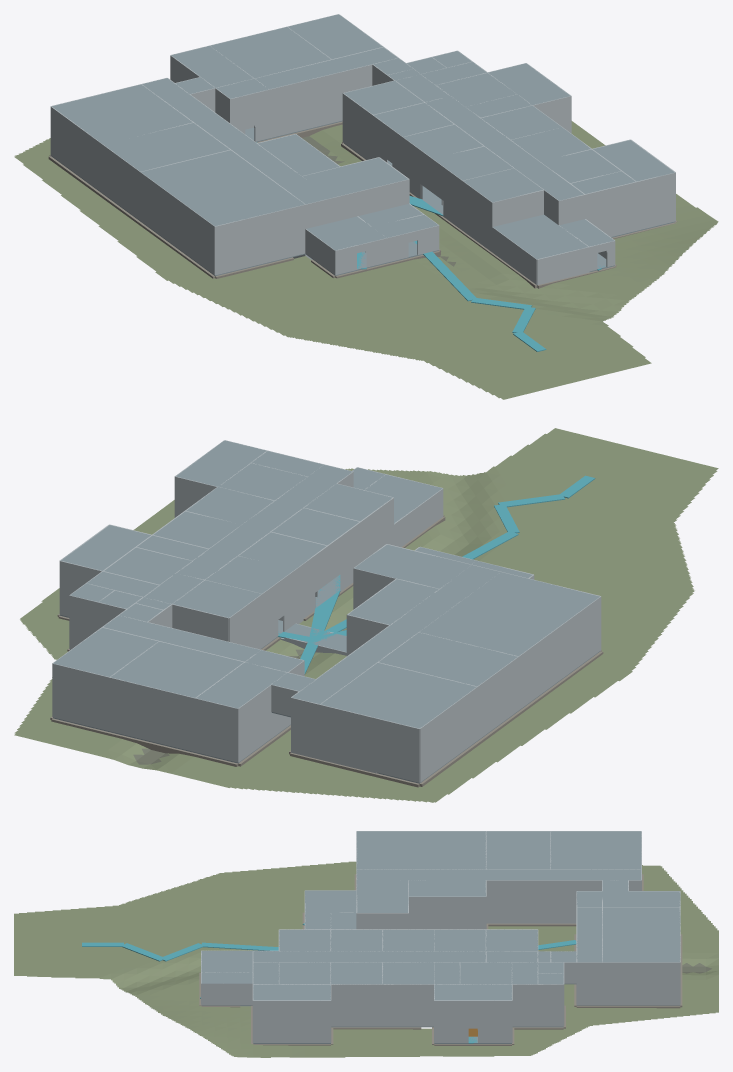
Rendered from open-circulation.glb.
3 views of the same model, one above another, from view 1: azimuth 30°, elevation 25°; view 2: azimuth 150°, elevation 25°; view 3: azimuth 270°, elevation 25° (orthographic). The views are drawn at different scales.
Visible parts, largest first — view 1: Saved editor macroterrain COLLEGE, Ceiling cap lecture, Ceiling cap project, Wall lecture S, Ceiling cap upper-teaching, Wall lecture W, Ceiling cap upper-stacks, Ceiling cap upper-res-hall, Ceiling cap upper-seminar, Flat route shell Wall bridge-lobby S, Ceiling cap tutorial, Ceiling cap upper-reading (+51 smaller); view 2: Saved editor macroterrain COLLEGE, Ceiling cap lecture, Ceiling cap project, Ceiling cap upper-teaching, Wall lecture W, Ceiling cap upper-res-hall, Ceiling cap upper-stacks, Ceiling cap upper-seminar, Wall project N, Ceiling cap tutorial, Ceiling cap upper-reading, Wall upper-stacks N (+54 smaller); view 3: Saved editor macroterrain COLLEGE, Ceiling cap lecture, Ceiling cap project, Ceiling cap upper-teaching, Ceiling cap upper-res-hall, Ceiling cap upper-stacks, Ceiling cap upper-seminar, Flat route shell Wall upper-teaching E.001, Flat route shell Wall teaching-hall E, Ceiling cap upper-reading, Wall upper-reading E, Wall upper-north-stair E (+44 smaller).
Part boxes in pixels (box(x1,y1,x2,y2)): Saved editor macroterrain COLLEGE: box(14, 121, 718, 399); Ceiling cap lecture: box(141, 150, 304, 225); Ceiling cap project: box(51, 84, 192, 144); Wall lecture S: box(215, 204, 305, 275); Ceiling cap upper-teaching: box(142, 78, 330, 204); Wall lecture W: box(140, 172, 215, 275); Ceiling cap upper-stacks: box(210, 27, 330, 78); Ceiling cap upper-res-hall: box(425, 96, 583, 200); Ceiling cap upper-seminar: box(103, 123, 229, 171); Flat route shell Wall bridge-lobby S: box(269, 62, 379, 113); Ceiling cap tutorial: box(302, 157, 407, 197); Ceiling cap upper-reading: box(288, 14, 382, 59); Saved editor macroterrain COLLEGE: box(14, 428, 718, 802); Ceiling cap lecture: box(419, 572, 599, 656); Ceiling cap project: box(320, 663, 476, 728); Ceiling cap upper-teaching: box(292, 565, 500, 703); Wall lecture W: box(519, 596, 601, 709); Ceiling cap upper-res-hall: box(177, 465, 352, 579); Ceiling cap upper-stacks: box(111, 641, 243, 697); Ceiling cap upper-seminar: box(379, 632, 517, 686); Wall project N: box(319, 704, 419, 755); Ceiling cap tutorial: box(354, 544, 471, 588); Ceiling cap upper-reading: box(53, 627, 158, 676); Wall upper-stacks N: box(109, 677, 194, 725); Saved editor macroterrain COLLEGE: box(14, 861, 718, 1057); Ceiling cap lecture: box(356, 831, 485, 869); Ceiling cap project: box(551, 831, 641, 869); Ceiling cap upper-teaching: box(356, 869, 641, 880); Ceiling cap upper-res-hall: box(253, 951, 485, 962); Ceiling cap upper-stacks: box(602, 908, 680, 940); Ceiling cap upper-seminar: box(486, 831, 550, 869); Flat route shell Wall upper-teaching E.001: box(486, 880, 601, 901); Flat route shell Wall teaching-hall E: box(486, 901, 576, 922); Ceiling cap upper-reading: box(602, 940, 680, 962); Wall upper-reading E: box(602, 962, 680, 983); Wall upper-north-stair E: box(434, 1000, 511, 1021).
Size of the model in its own units: 73 by 10.36 by 109.
